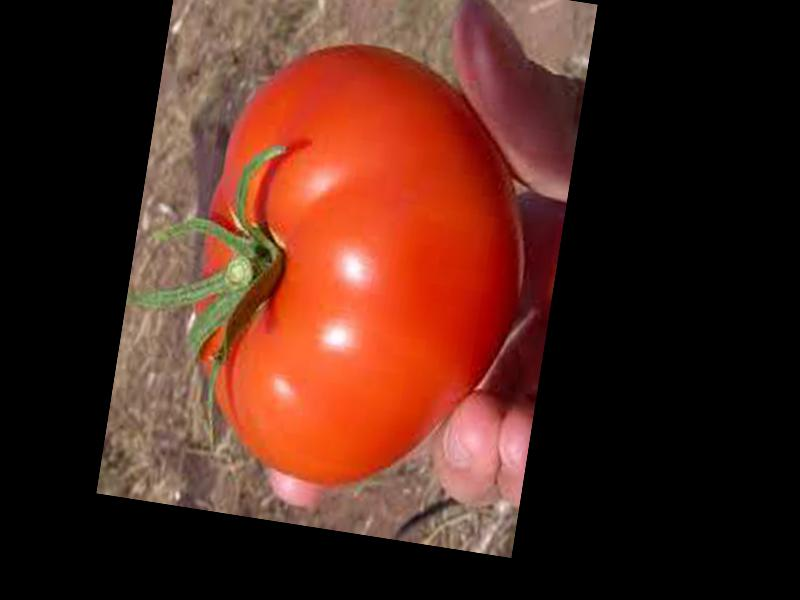Tomato: (170, 25, 550, 508)
